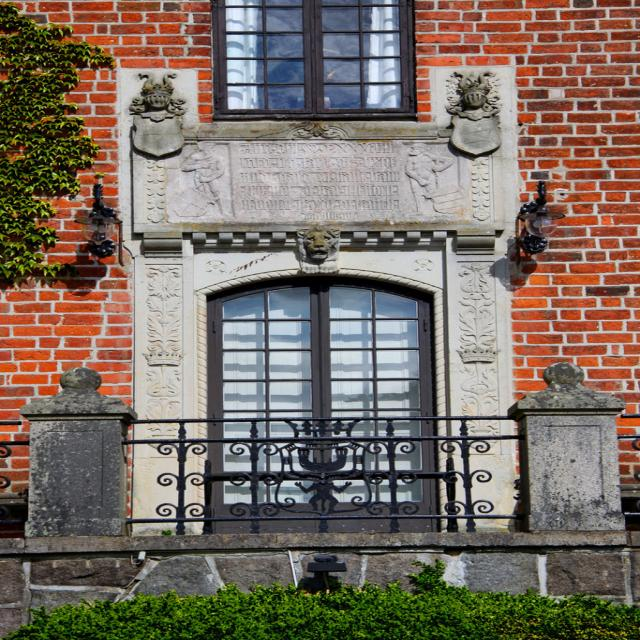door_local: (138, 117, 486, 541)
